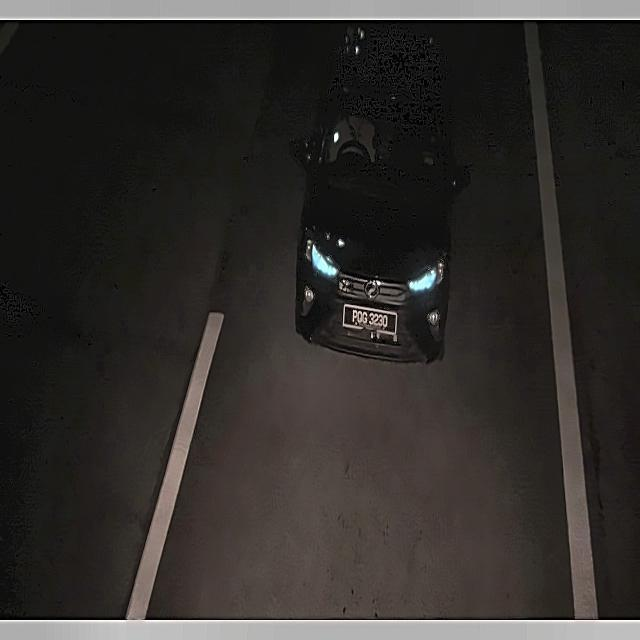car: (340, 294, 401, 342)
